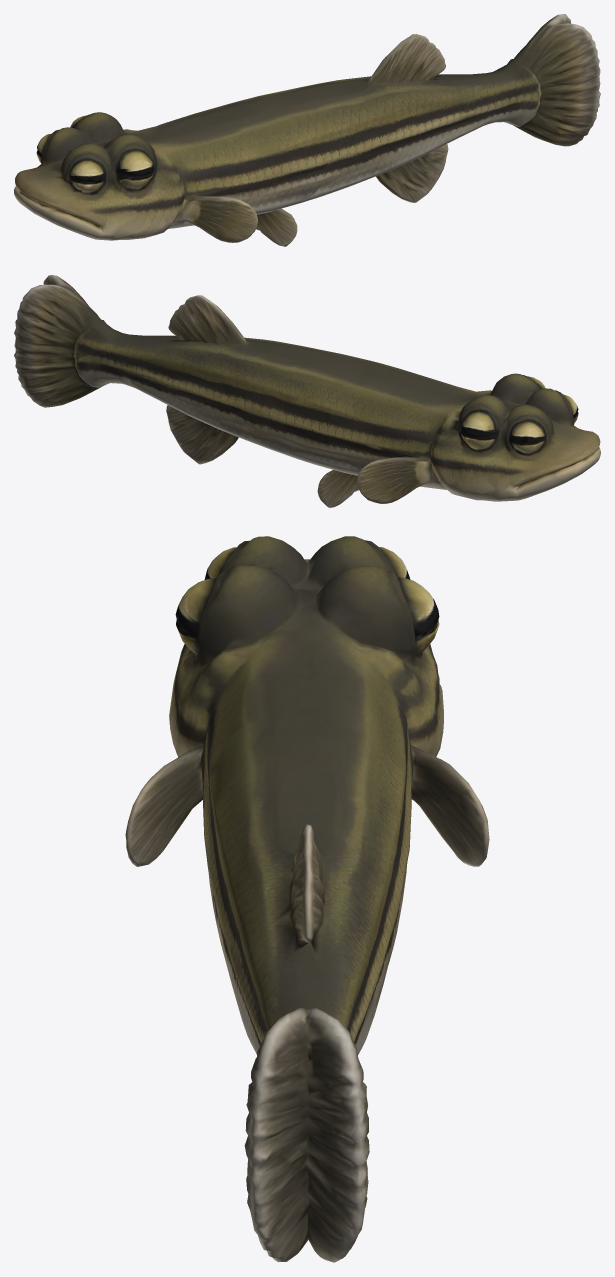
File: fish-chetyrehglazka.glb
3 renders of one model, top to bottom at view 1: azimuth 30°, elevation 25°; view 2: azimuth 150°, elevation 25°; view 3: azimuth 270°, elevation 25°, orthographic. The views are drawn at different scales.
Visible parts, largest first — view 1: tripo_node_3d67c981-89b1-4ef8-b8e3-5ac43e6dc724; view 2: tripo_node_3d67c981-89b1-4ef8-b8e3-5ac43e6dc724; view 3: tripo_node_3d67c981-89b1-4ef8-b8e3-5ac43e6dc724.
Boxes of the visible parts, x1=… form: tripo_node_3d67c981-89b1-4ef8-b8e3-5ac43e6dc724: x1=14, y1=14, x2=600, y2=246; tripo_node_3d67c981-89b1-4ef8-b8e3-5ac43e6dc724: x1=14, y1=275, x2=600, y2=507; tripo_node_3d67c981-89b1-4ef8-b8e3-5ac43e6dc724: x1=125, y1=536, x2=489, y2=1262.
Bounding box in the file's own units: 1 × 0.2873 × 0.2786.
Materials: 1 (1 with a texture image).
